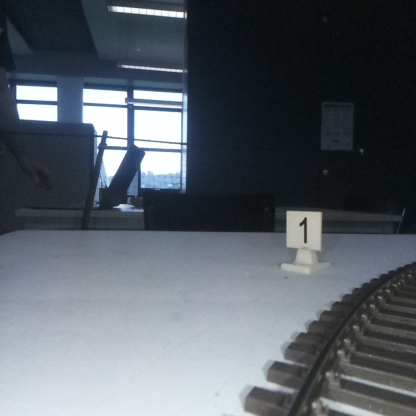white-stop-1: (286, 211, 321, 269)
